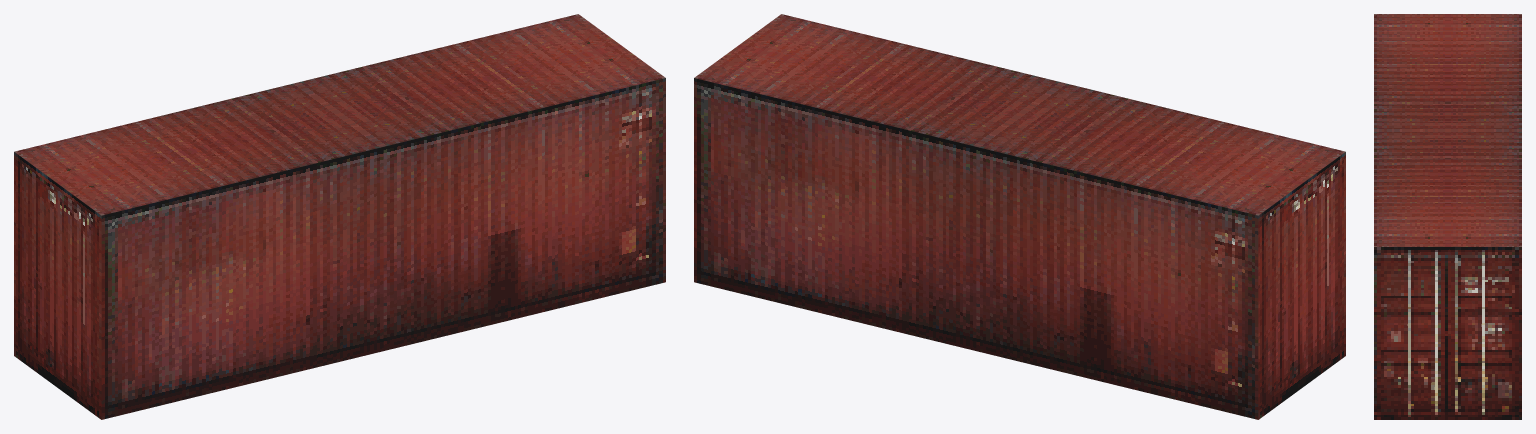
File: container_5.glb
The picture shows the model from 3 angles, left to right: view 1: azimuth 30°, elevation 25°; view 2: azimuth 150°, elevation 25°; view 3: azimuth 270°, elevation 25°; orthographic projection. The views are drawn at different scales.
Parts seen in each view (by area): view 1: Object_52; view 2: Object_52; view 3: Object_52.
Part boxes in pixels (<box>): Object_52: <box>14,14,665,419</box>; Object_52: <box>694,14,1345,419</box>; Object_52: <box>1374,14,1521,419</box>.
Bounding box in the file's own units: 6.06 × 2.1 × 1.63.
1 material, 1 textured.
